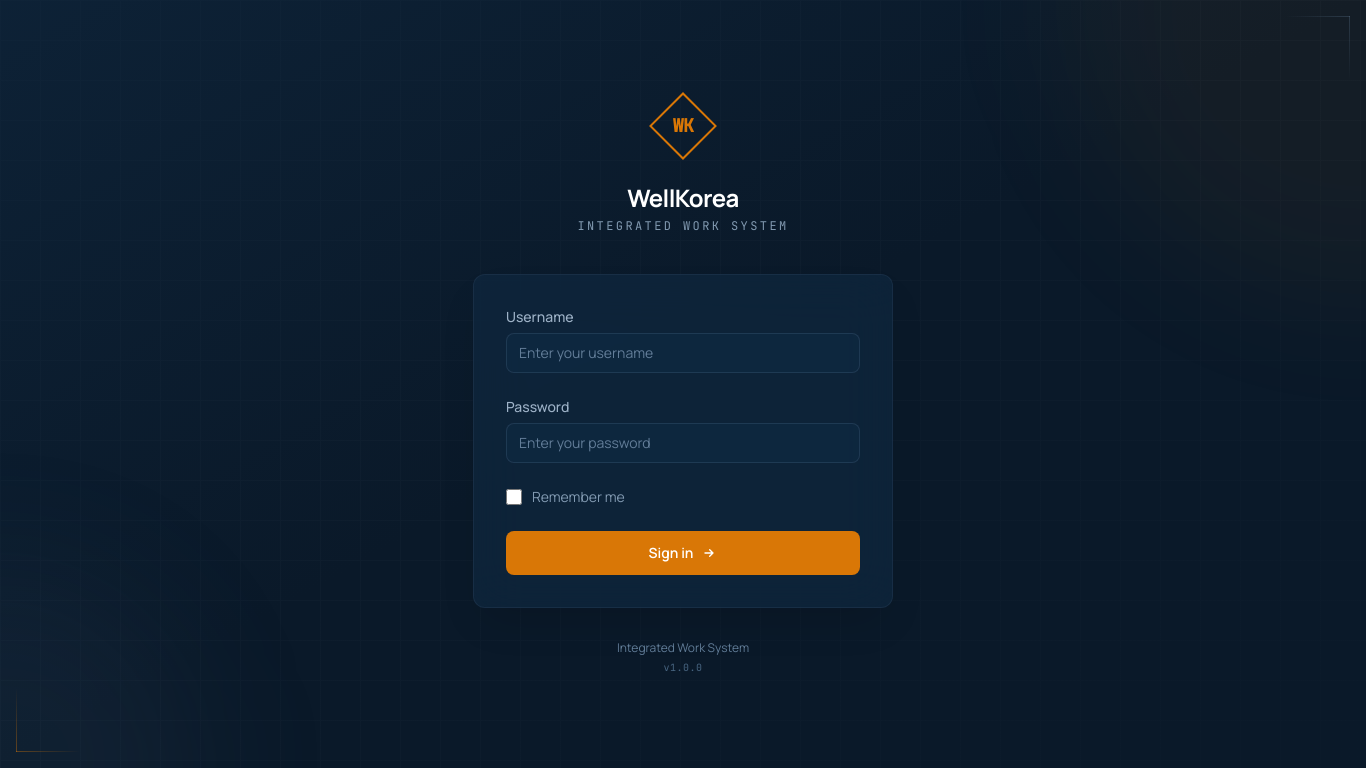
Test: LoginPage › form validation › should show error when username is empty
The width and height of the screenshot is (1366, 768).
# Submit without filling username
Click the button "Sign in": [683, 552] box [506,530,860,574]
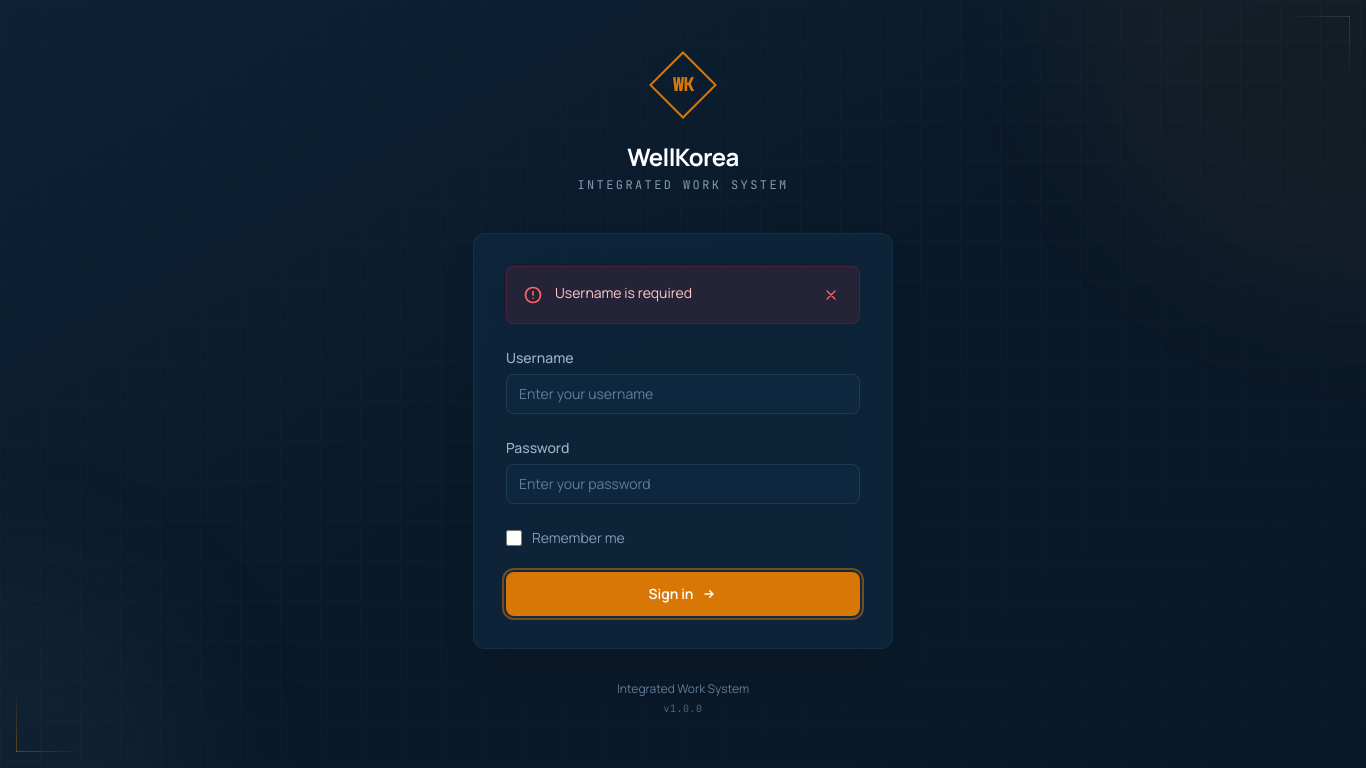
Expected: the text "Username is required" is shown, [555,282,692,302]
